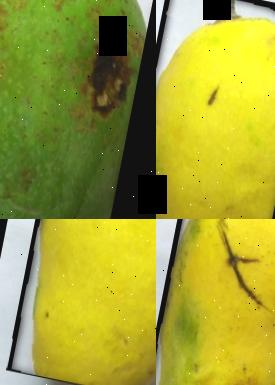Ripe: (156, 0, 275, 219), (7, 219, 156, 385), (156, 219, 275, 385)
Unripe: (0, 0, 156, 219)
